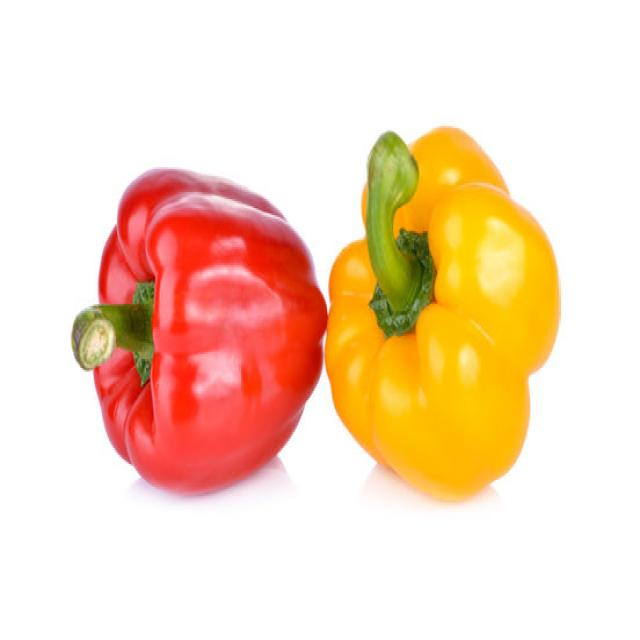Bell Pepper: (323, 124, 560, 502), (70, 166, 328, 494)
